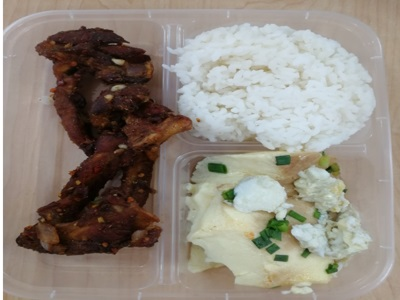jdg: (191, 160, 364, 278)
rice: (188, 33, 362, 141)
yt: (34, 34, 156, 259)
